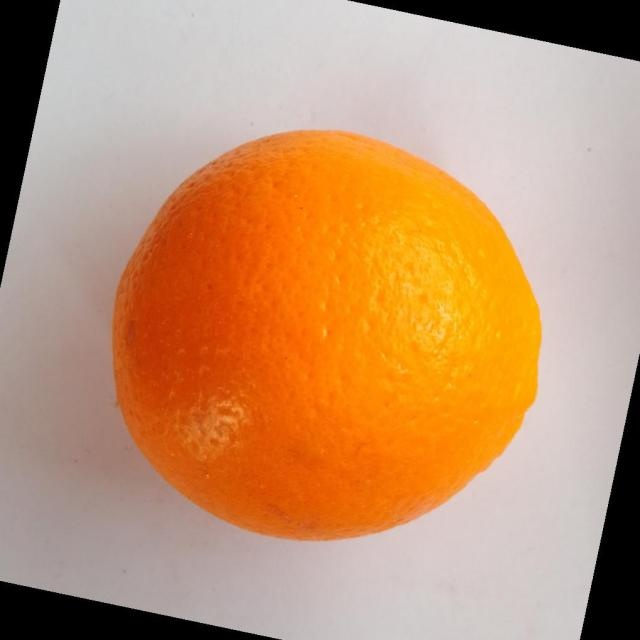agrume: (110, 127, 543, 542)
